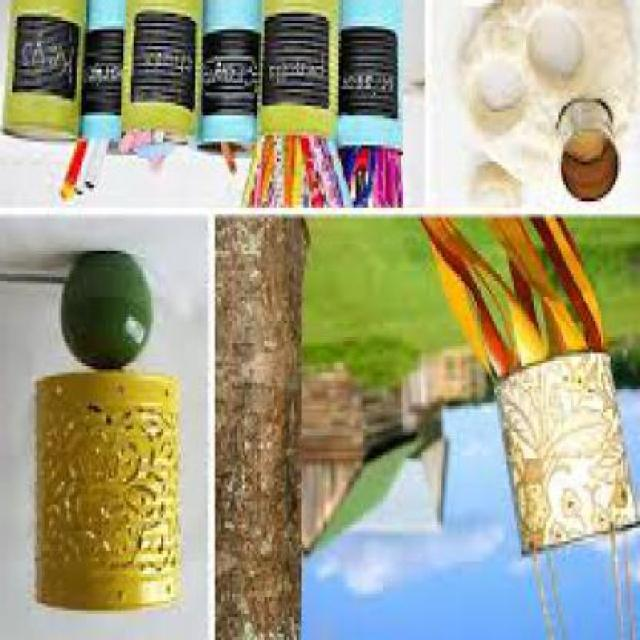METAL: (35, 373, 182, 613), (494, 352, 638, 562), (7, 3, 87, 145), (264, 3, 342, 139), (126, 3, 200, 139), (341, 7, 405, 158), (200, 4, 265, 148), (559, 102, 623, 204), (89, 3, 126, 145)
